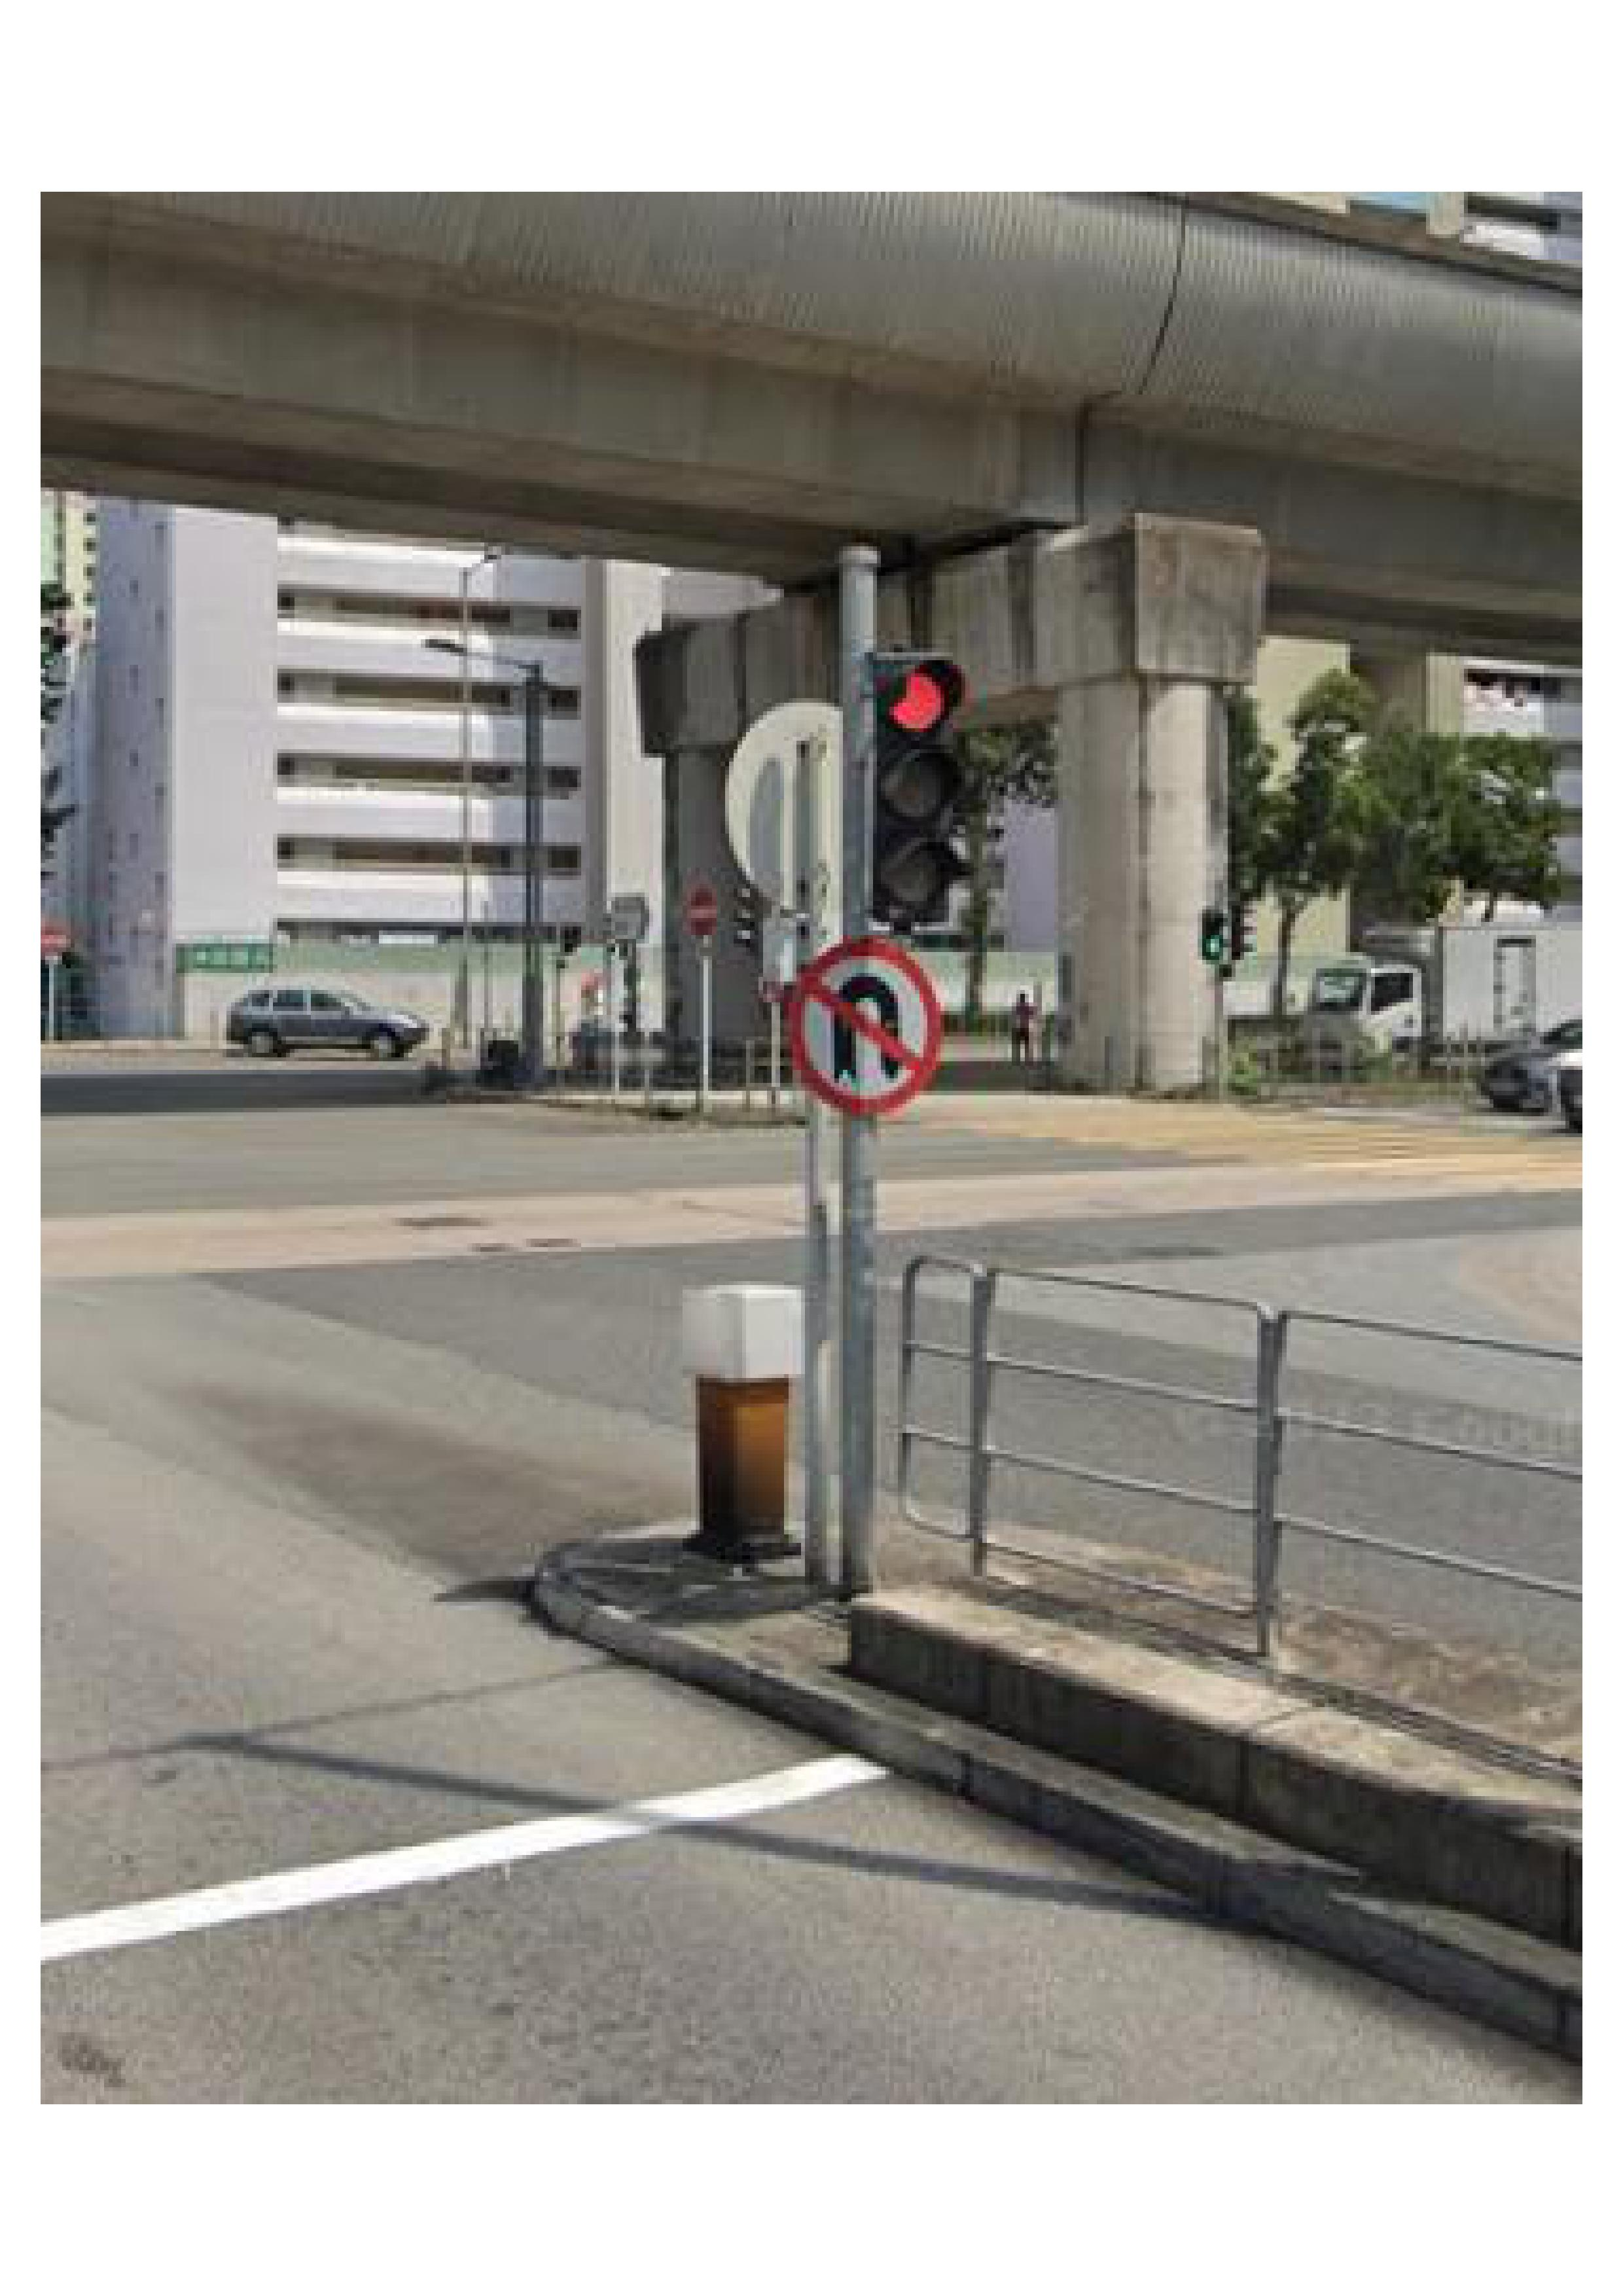No Uturn: (776, 943, 963, 1106)
